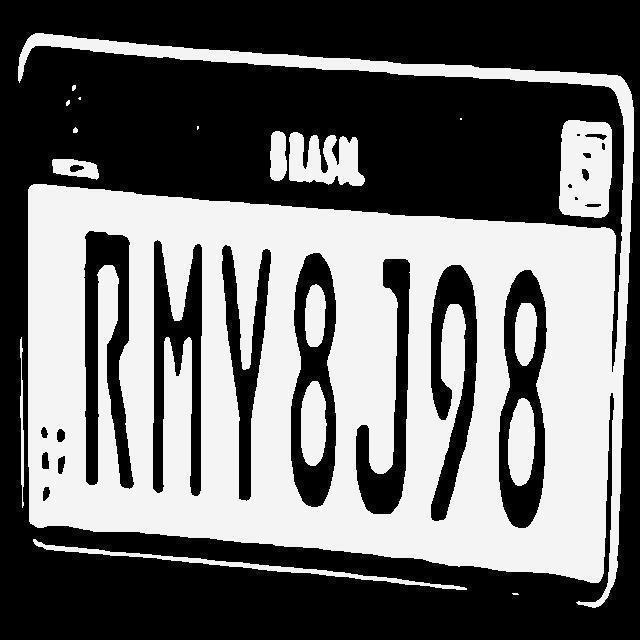8: (489, 262, 554, 528), (281, 248, 342, 509)
9: (418, 256, 483, 521)
j: (346, 252, 419, 522)
m: (142, 229, 214, 502)
r: (75, 224, 141, 496)
y: (215, 237, 278, 508)
